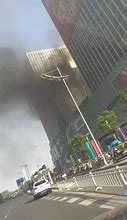smoke: (1, 46, 69, 118)
